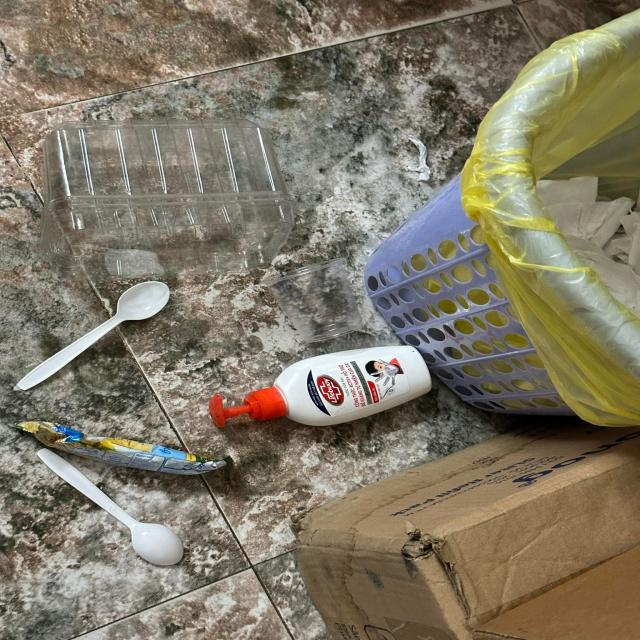bottle: (208, 345, 432, 427)
packet: (17, 420, 234, 478)
plastic holder: (46, 123, 294, 271)
plastic utensil: (36, 448, 184, 566), (15, 282, 170, 394)
